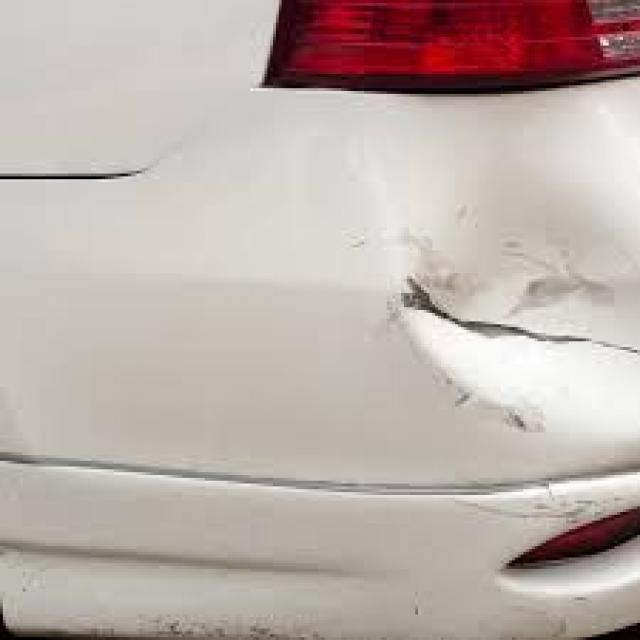dent-or-scratch: (381, 242, 640, 438)
